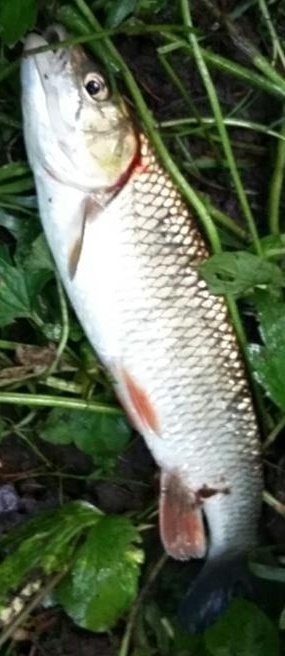Leuciscus cephalus: (20, 20, 265, 636)
